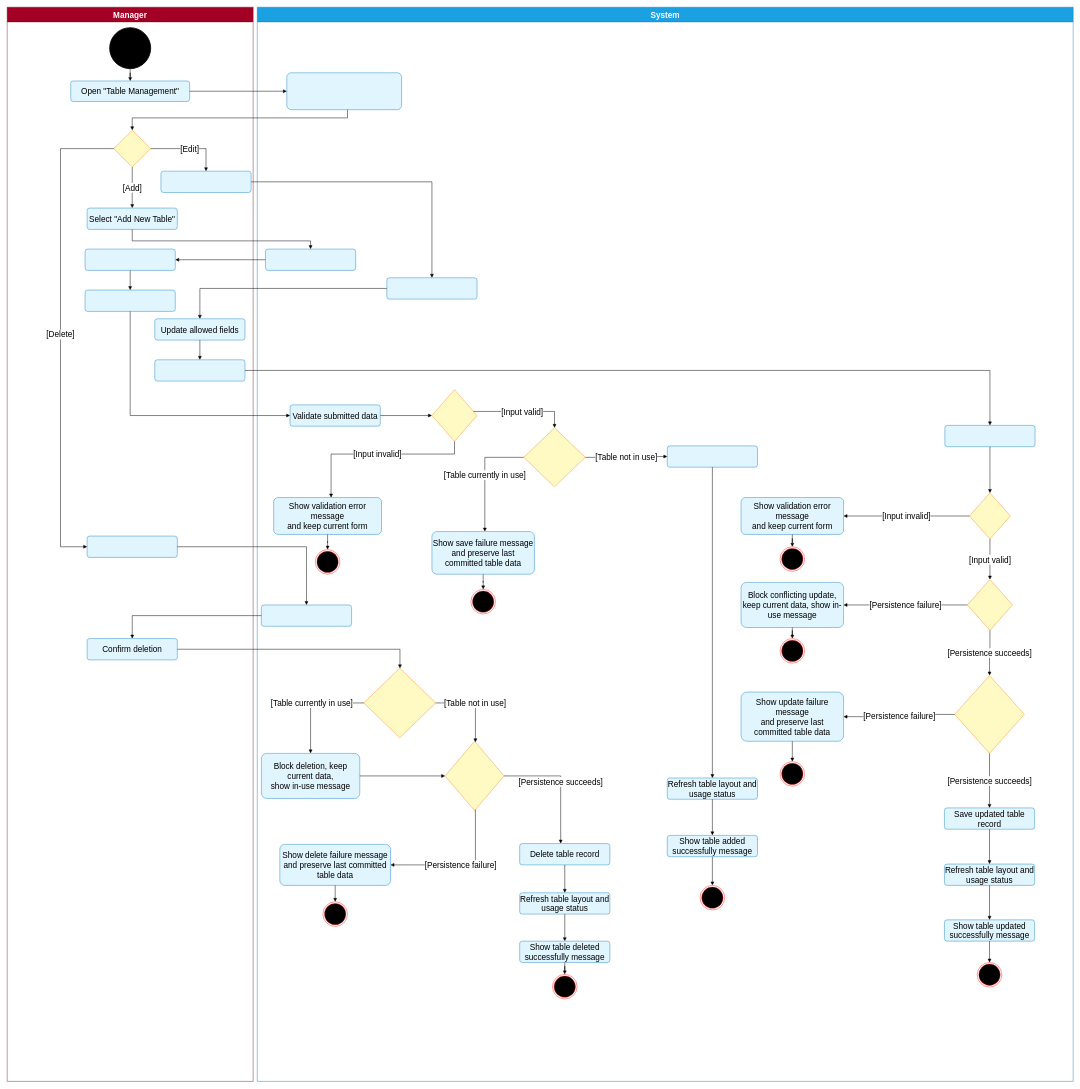
Image size: 1080x1089. Some labels were removed from this diagram. The centre of each missing label's shape, as x and y in pixels:
Click "Save": the point at 130,300
Click "Update": the point at 199,370
Display current table data: the point at 431,288
Display current table layout with usage status: the point at 344,91
Display delete confirmation: the point at 306,615
Display table form: the point at 310,259
Enter required table data: the point at 130,259
Save new table record: the point at 712,456
Select table to delete: the point at 132,546
Select table to edit: the point at 206,181
Validate submitted changes: the point at 989,436
